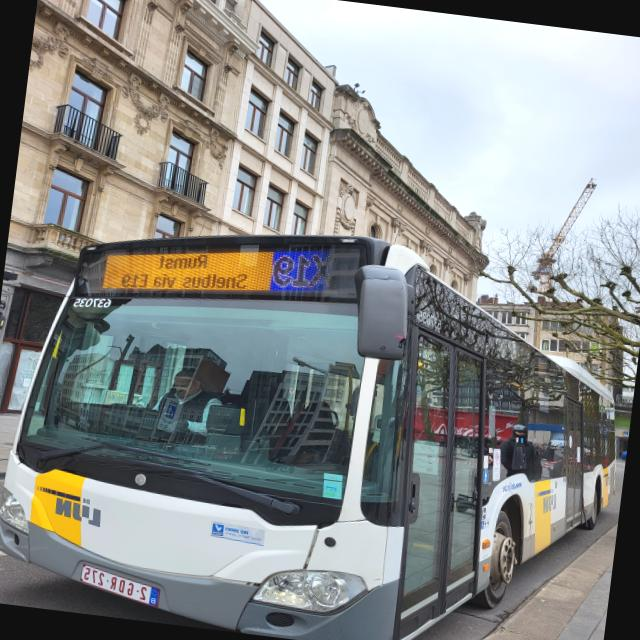bus-number: (270, 242, 338, 294)
